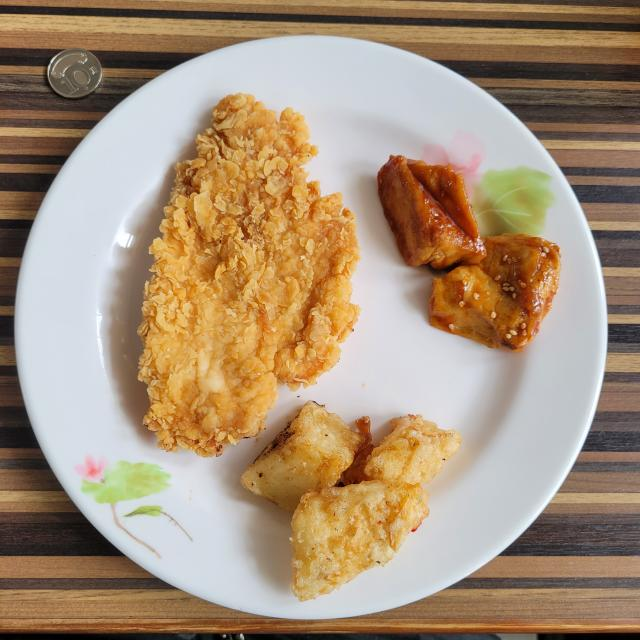coin: (48, 49, 102, 99)
creamy tofu: (378, 155, 560, 351)
fried chicken cutlet: (139, 94, 359, 456)
fried potato: (241, 401, 460, 601)
